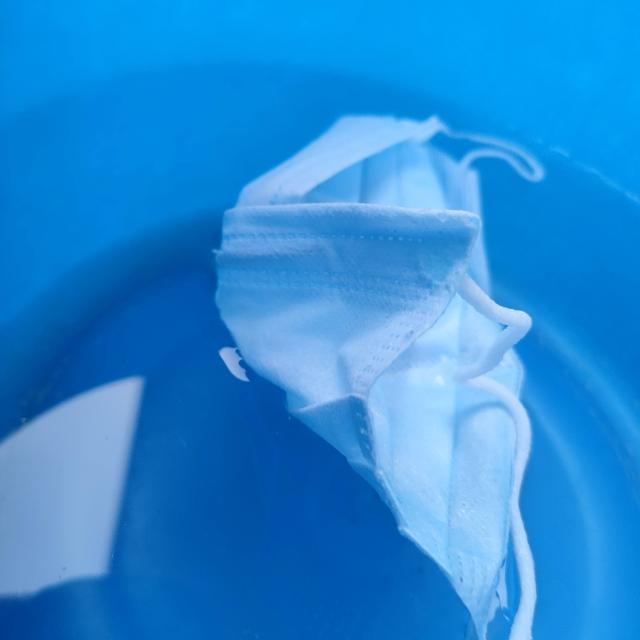mask: (202, 95, 552, 640)
